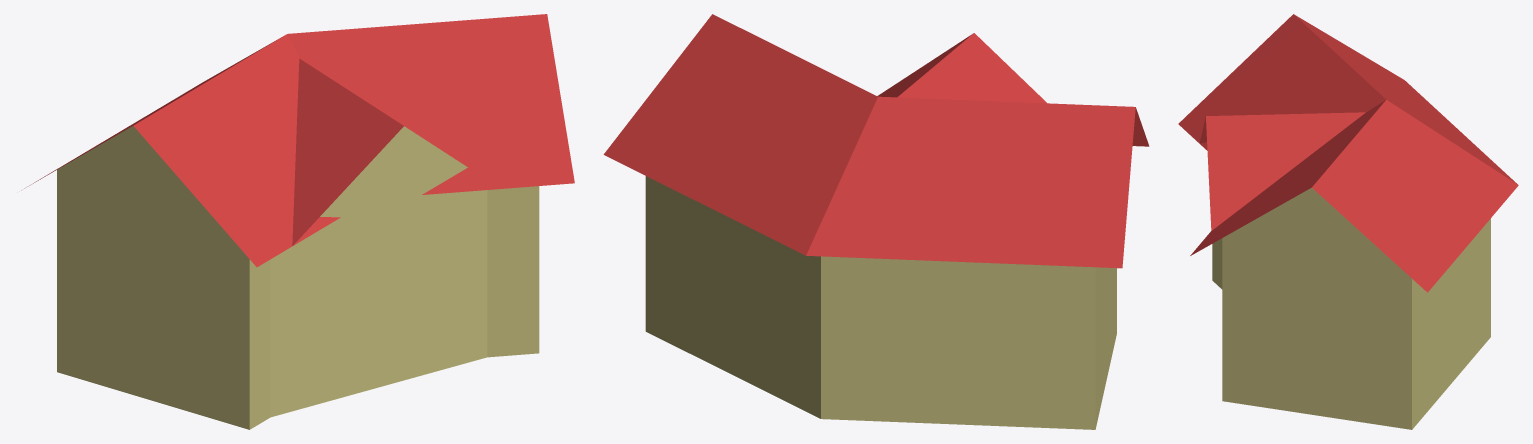
3 renders of one model, left to right at view 1: azimuth 30°, elevation 25°; view 2: azimuth 150°, elevation 25°; view 3: azimuth 270°, elevation 25°, orthographic. The views are drawn at different scales.
Size of the model in its own units: 19.56 by 13.25 by 10.24.
